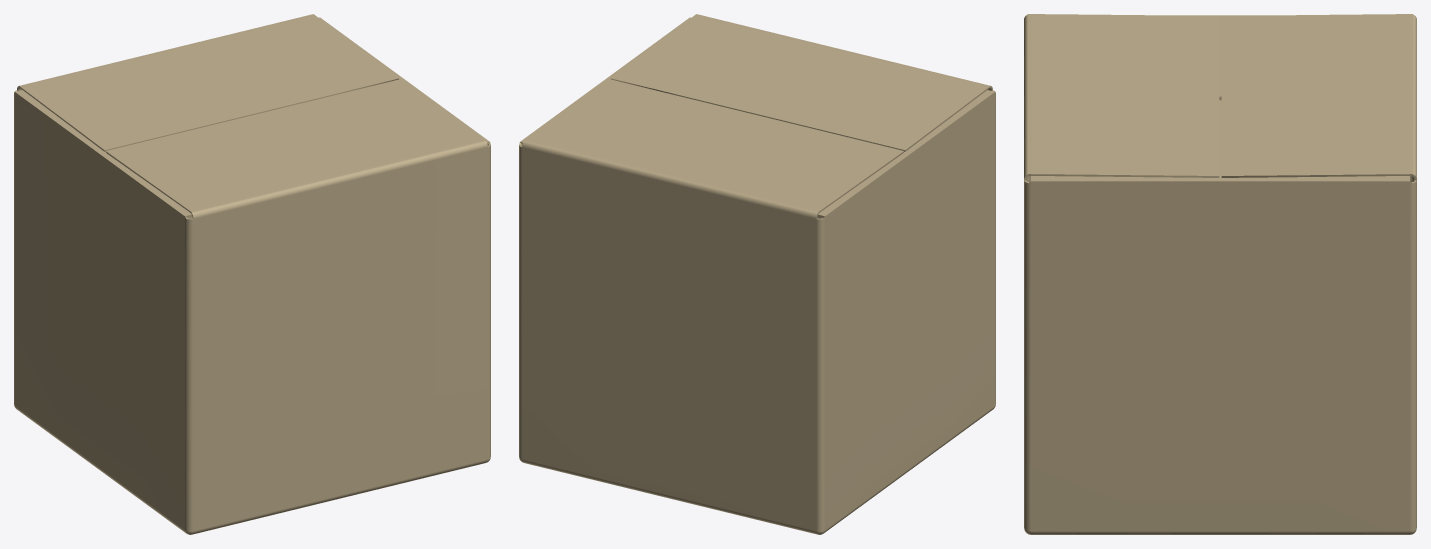
Rendered from Closed Cardboard Box.fbx.
3 views of the same model, side by side, from view 1: azimuth 30°, elevation 25°; view 2: azimuth 150°, elevation 25°; view 3: azimuth 270°, elevation 25° (orthographic). The views are drawn at different scales.
Visible parts, largest first — view 1: closed_box; view 2: closed_box; view 3: closed_box.
Boxes of the visible parts, x1,y1,x2,y2 form: closed_box: (14, 14, 490, 534); closed_box: (519, 14, 995, 534); closed_box: (1024, 14, 1416, 534).
Bounding box in the file's own units: 5.4 × 5.47 × 5.4.
